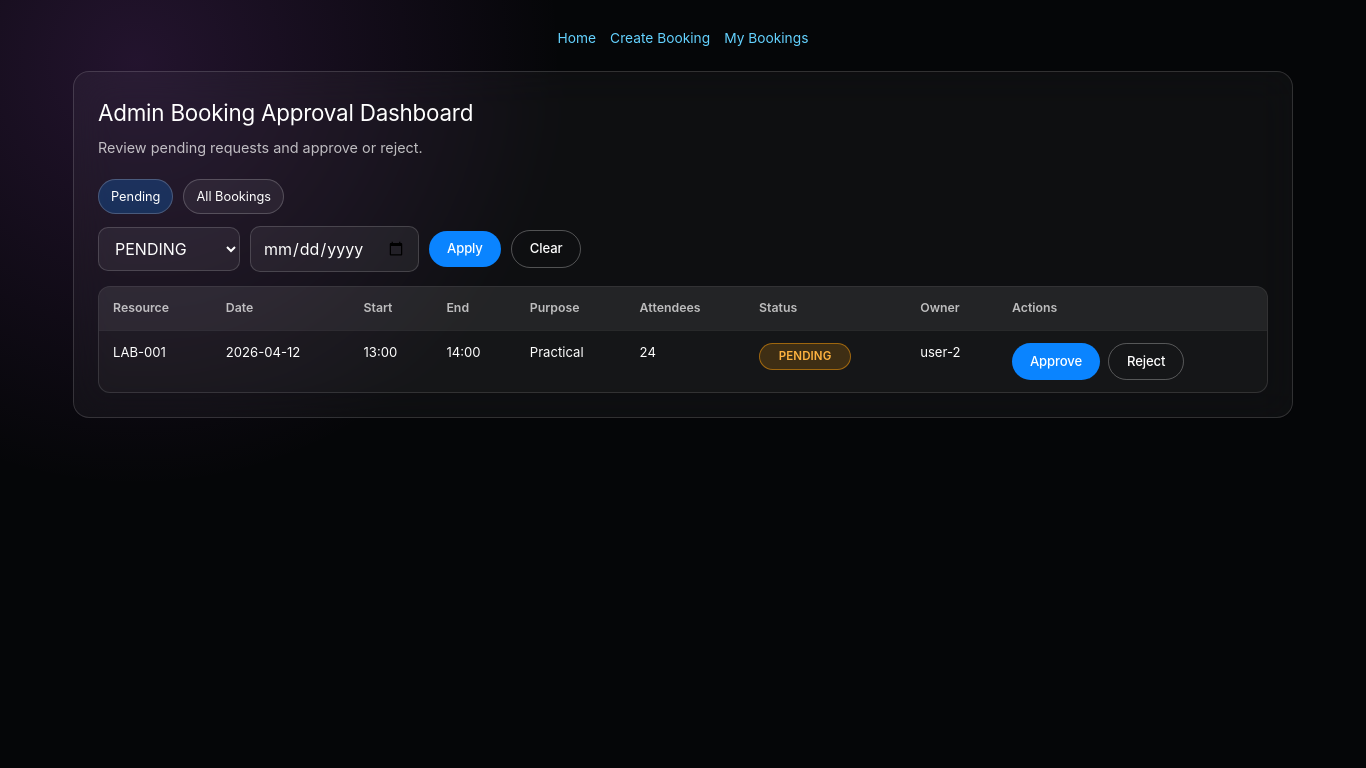
it: AdminBookingApprovalPage › approves and rejects pending bookings
The image size is (1366, 768).
Expected: the text "LAB-001" is shown, [99,330,212,392]
Click the button "Approve" at (1056, 361), box [1012,342,1100,380]
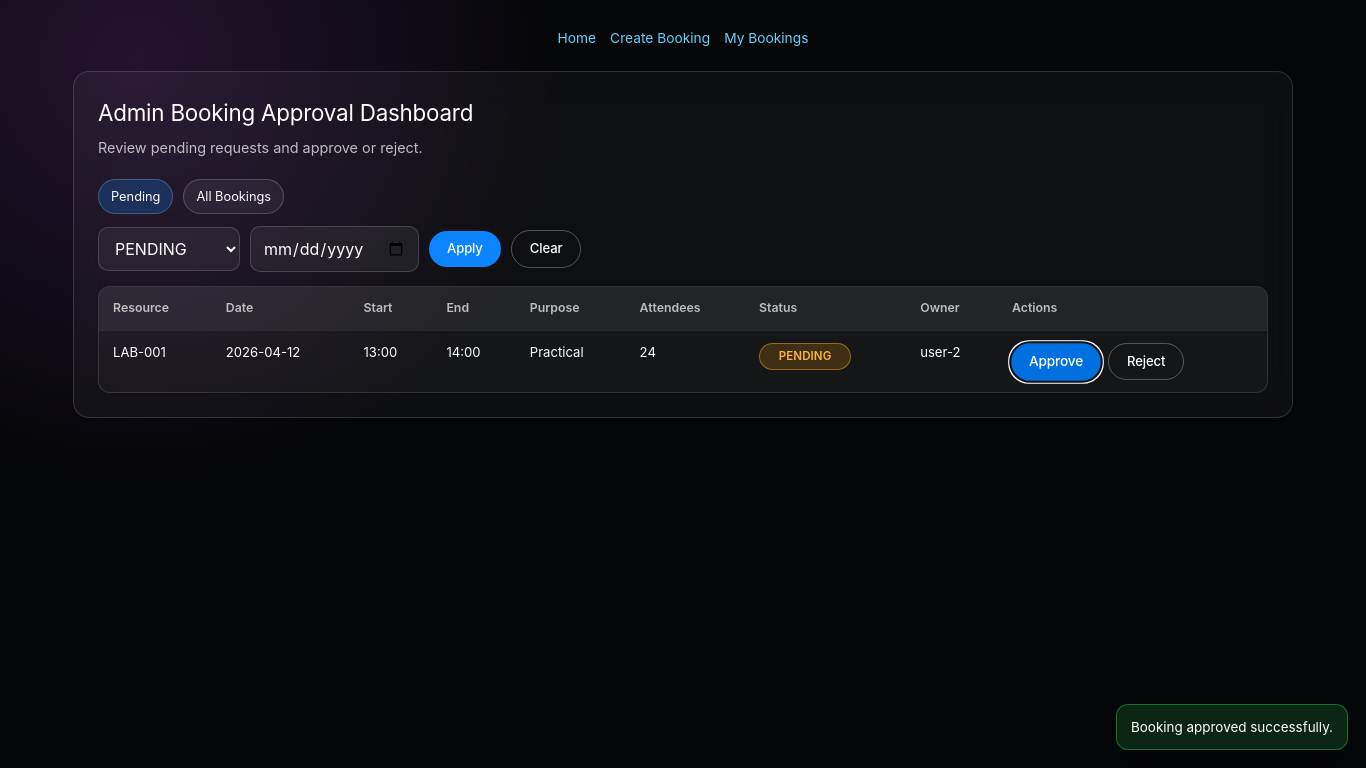
Result: the text "Booking approved successfully." is shown at [1116,704,1348,750]
Click the button "Reject" at (1146, 361), box [1108,342,1184,380]
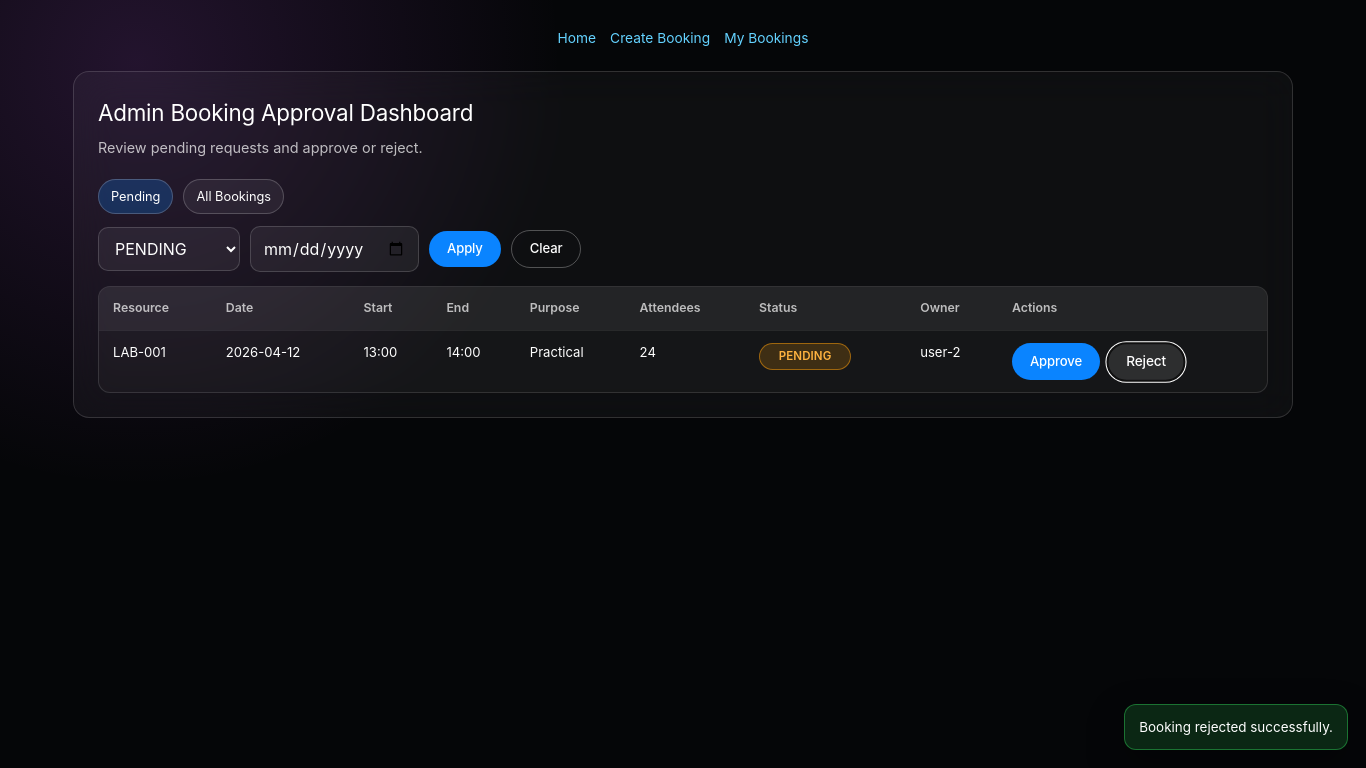
Result: the text "Booking rejected successfully." is shown at [1124,704,1348,750]
